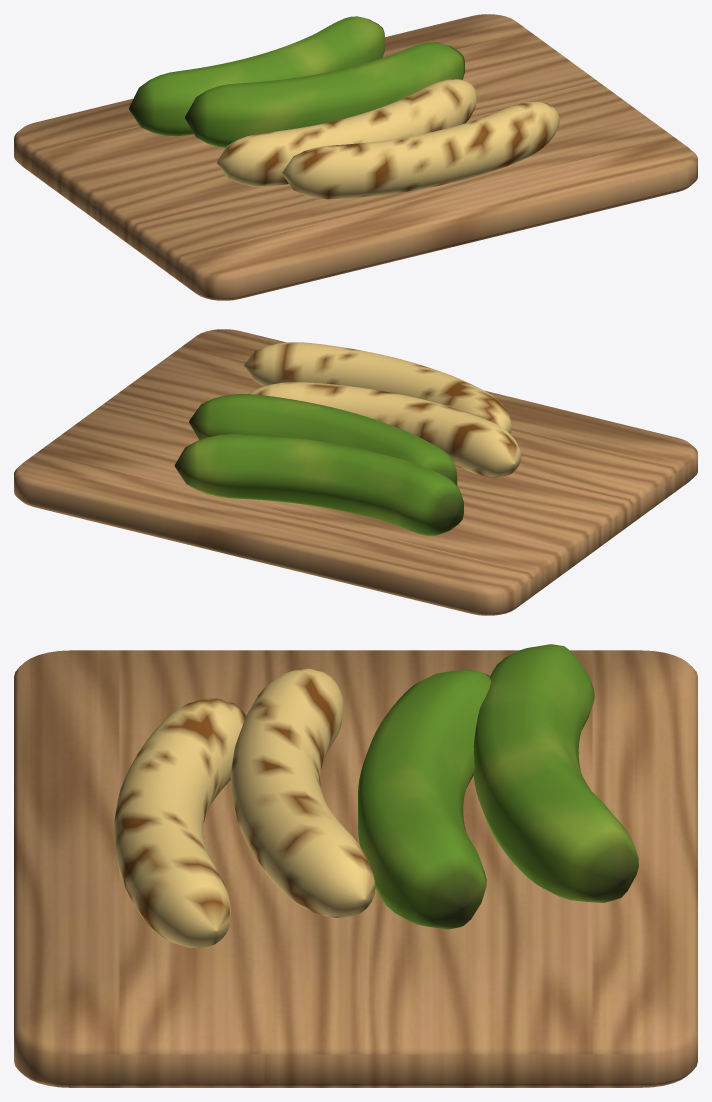
File: paso-1.glb
3 views of the same model, one above another, from view 1: azimuth 30°, elevation 25°; view 2: azimuth 150°, elevation 25°; view 3: azimuth 270°, elevation 25° (orthographic). The views are drawn at different scales.
Parts seen in each view (by area): view 1: paso-1-0, paso-1-4, paso-1-2, paso-1-1, paso-1-3; view 2: paso-1-0, paso-1-1, paso-1-4, paso-1-2, paso-1-3; view 3: paso-1-0, paso-1-1, paso-1-2, paso-1-3, paso-1-4.
Part boxes in pixels (<box>): paso-1-0: <box>14,14,697,300</box>; paso-1-4: <box>282,101,559,199</box>; paso-1-2: <box>185,42,464,147</box>; paso-1-1: <box>129,16,384,136</box>; paso-1-3: <box>216,79,477,186</box>; paso-1-0: <box>14,329,697,615</box>; paso-1-1: <box>174,434,463,535</box>; paso-1-4: <box>244,342,511,433</box>; paso-1-2: <box>189,394,457,485</box>; paso-1-3: <box>248,382,521,477</box>; paso-1-0: <box>14,650,697,1087</box>; paso-1-1: <box>473,644,638,902</box>; paso-1-2: <box>358,669,491,929</box>; paso-1-3: <box>230,668,375,917</box>; paso-1-4: <box>113,698,246,947</box>.
Size of the model in its own units: 0.36 by 0.058 by 0.26.
Materials: 3 (1 with a texture image).
